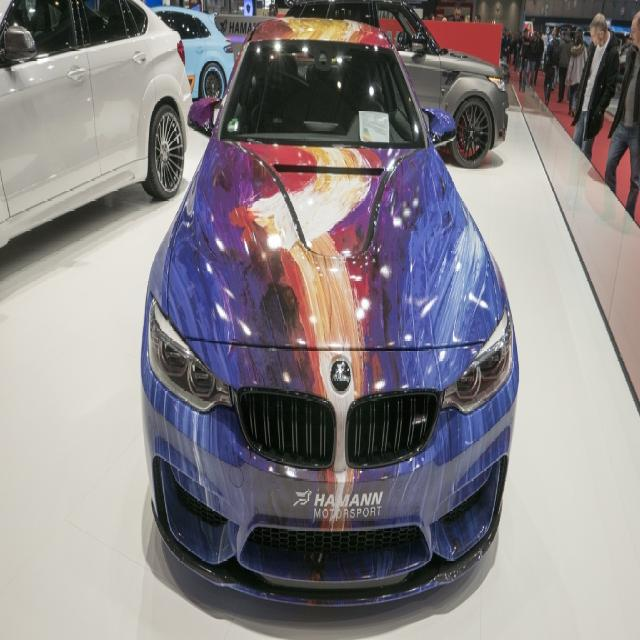car: (138, 18, 518, 626)
